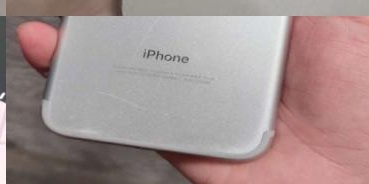scratch: (119, 16, 233, 61), (82, 80, 171, 118), (69, 119, 110, 139)
